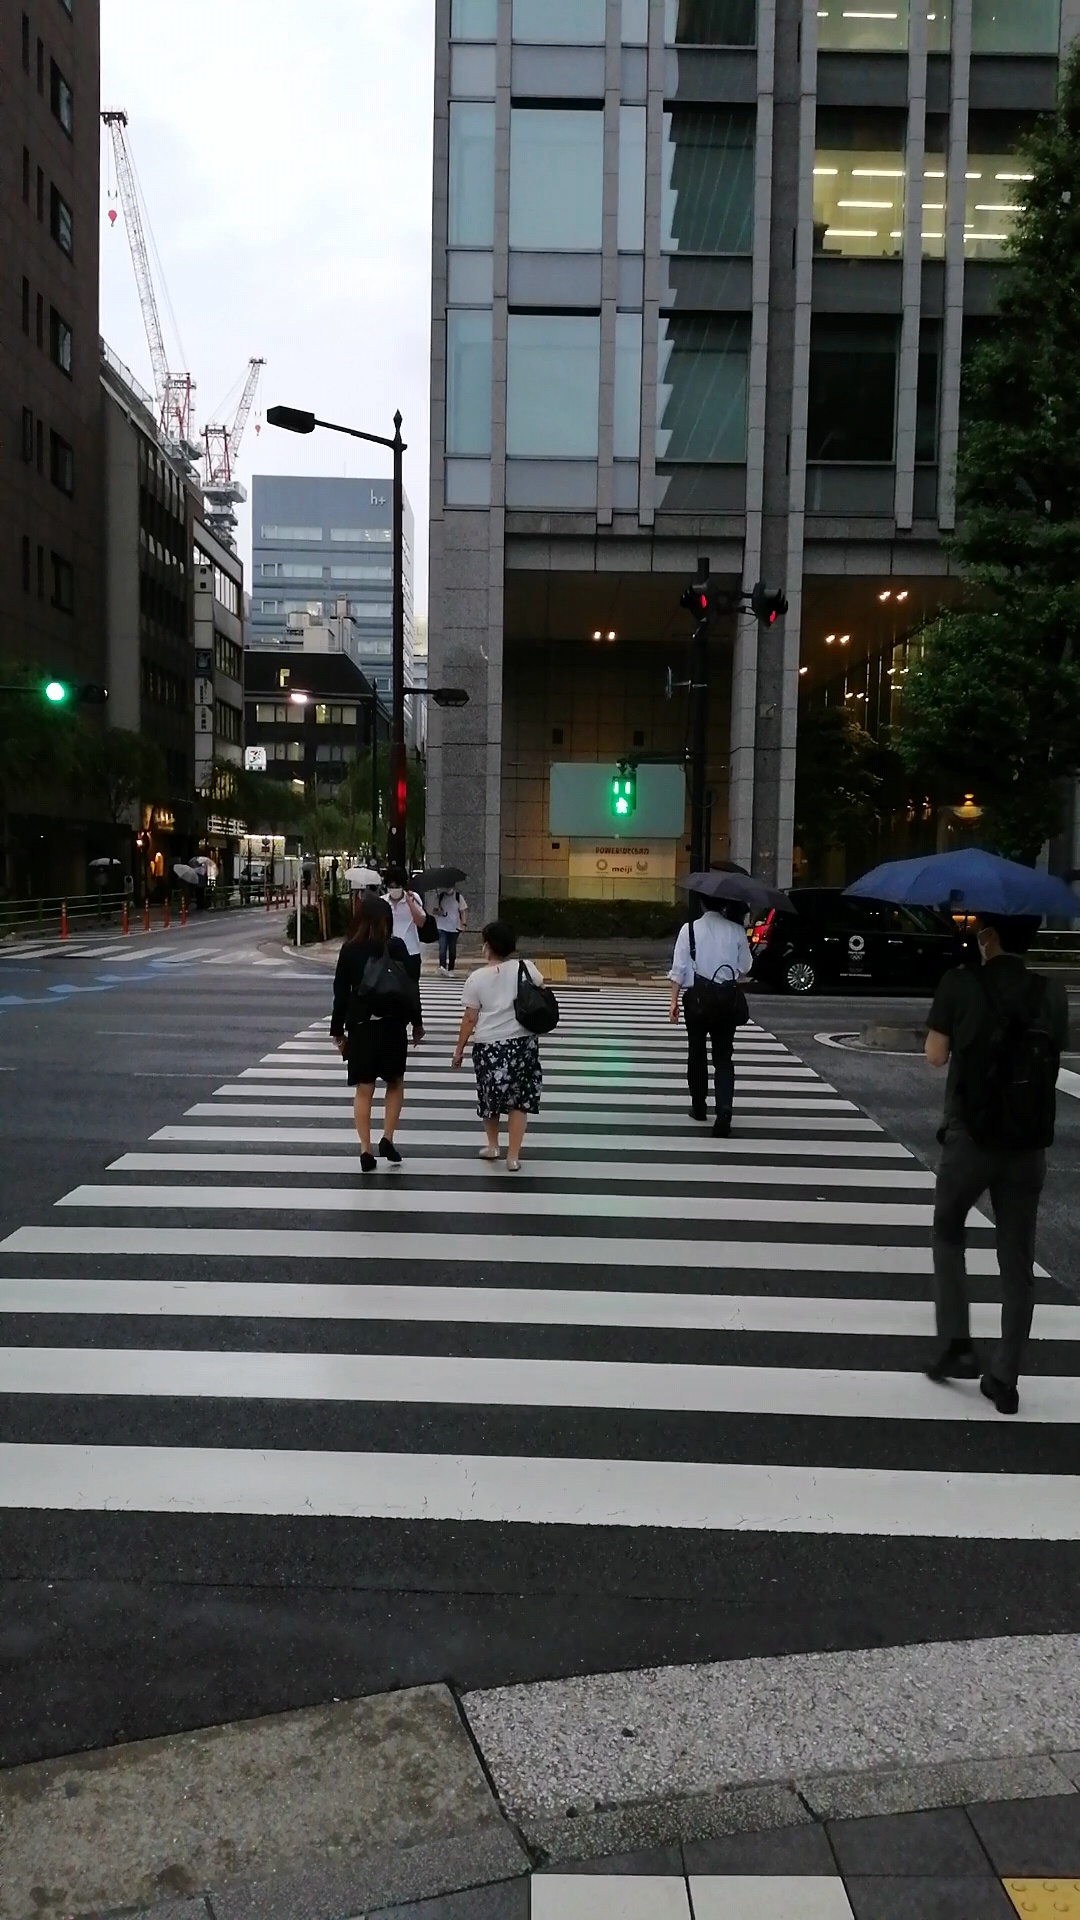green: (608, 773, 636, 820)
